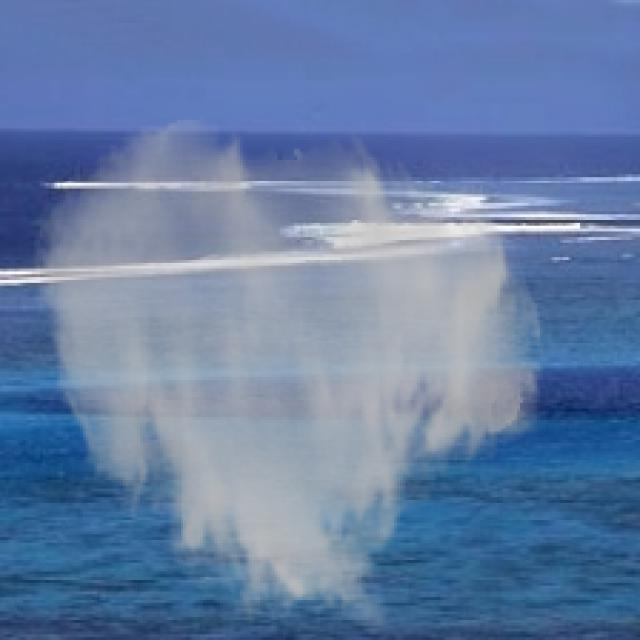smoke: (29, 114, 548, 637)
